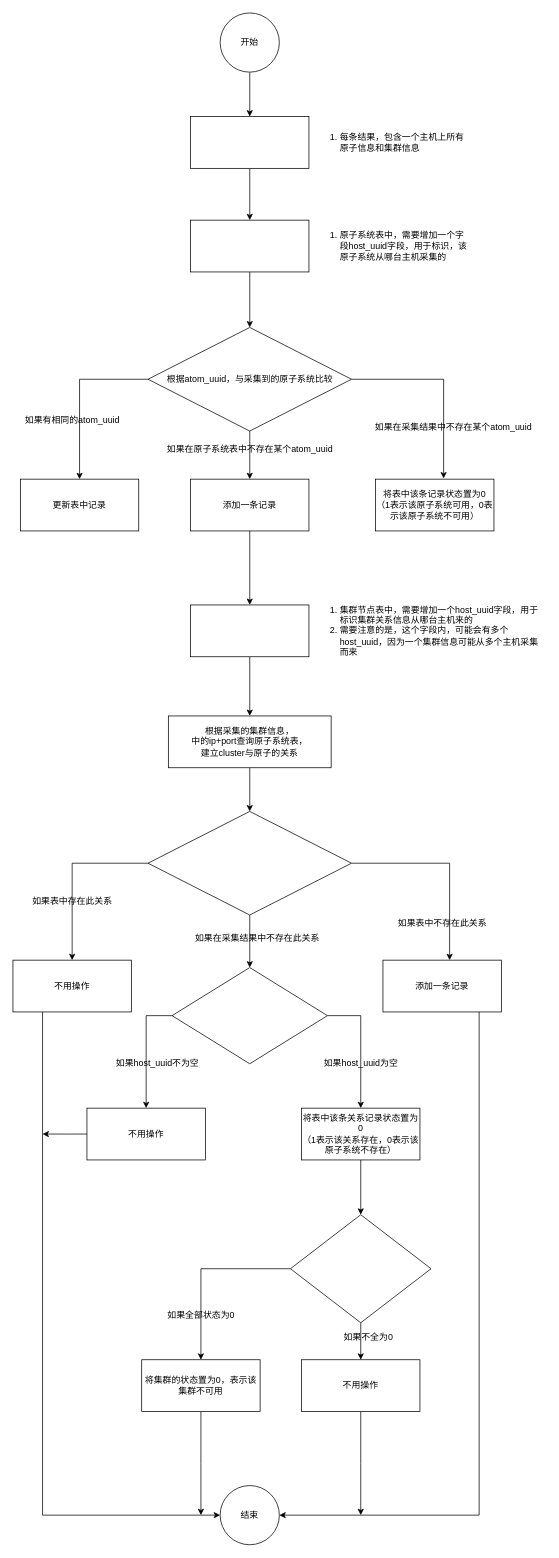
This 559x1558 diagram has some shape labels left out. The shapes that lost their labels are listed below. From the top down, each one's centre as x and y in pixels, then its label:
At point (249, 142): "获取一条采集结果".
At point (249, 245): "根据host_uuid，查询 原子系统表 中相应的原子系统".
At point (249, 630): "根据host_uuid，查询 集群节点表 中相应的集群与节点的关系".
At point (249, 863): "根据cluster_uuid，将采集结果建立的集群关系 与查询到的集群关系进行对比".
At point (249, 1015): "将集群节点表中host_uuid字段中， 将当前主机的host_uuid去掉".
At point (360, 1268): "根据cluster_uuid， 查询对应关系记录的状态".
